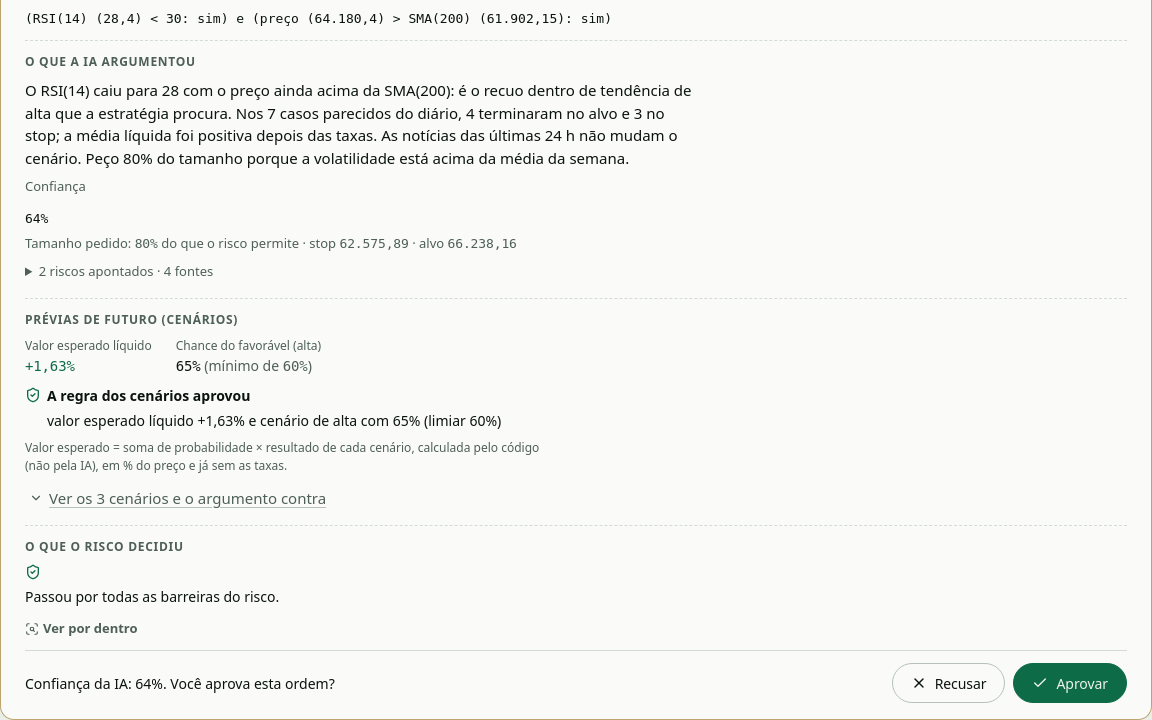
Test: CartaoDecisao › aprova a decisão que aguarda e avisa que a ordem vai sair
(page scrolled)
Click the button "Aprovar". click: (1070, 683)
box: x1=1014 y1=663 x2=1127 y2=703
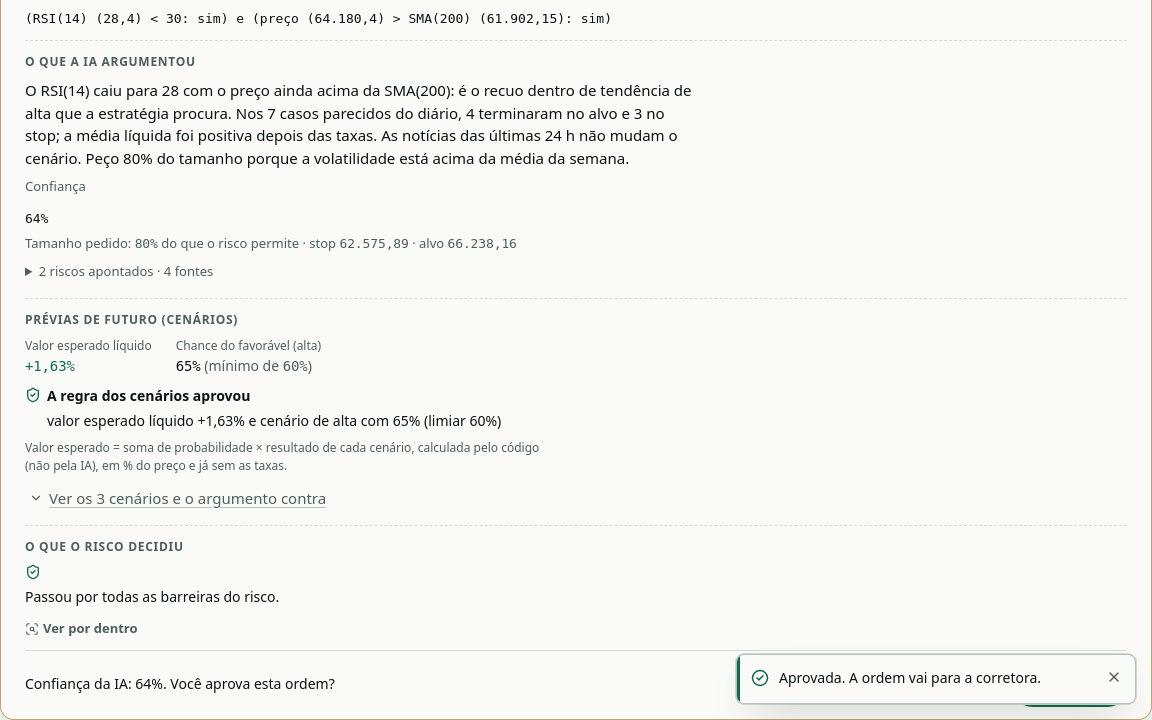
Expected: the text "Aprovada. A ordem vai para a corretora." is shown, x1=779 y1=668 x2=1041 y2=687
